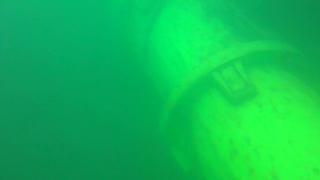pipe: (86, 1, 320, 180)
